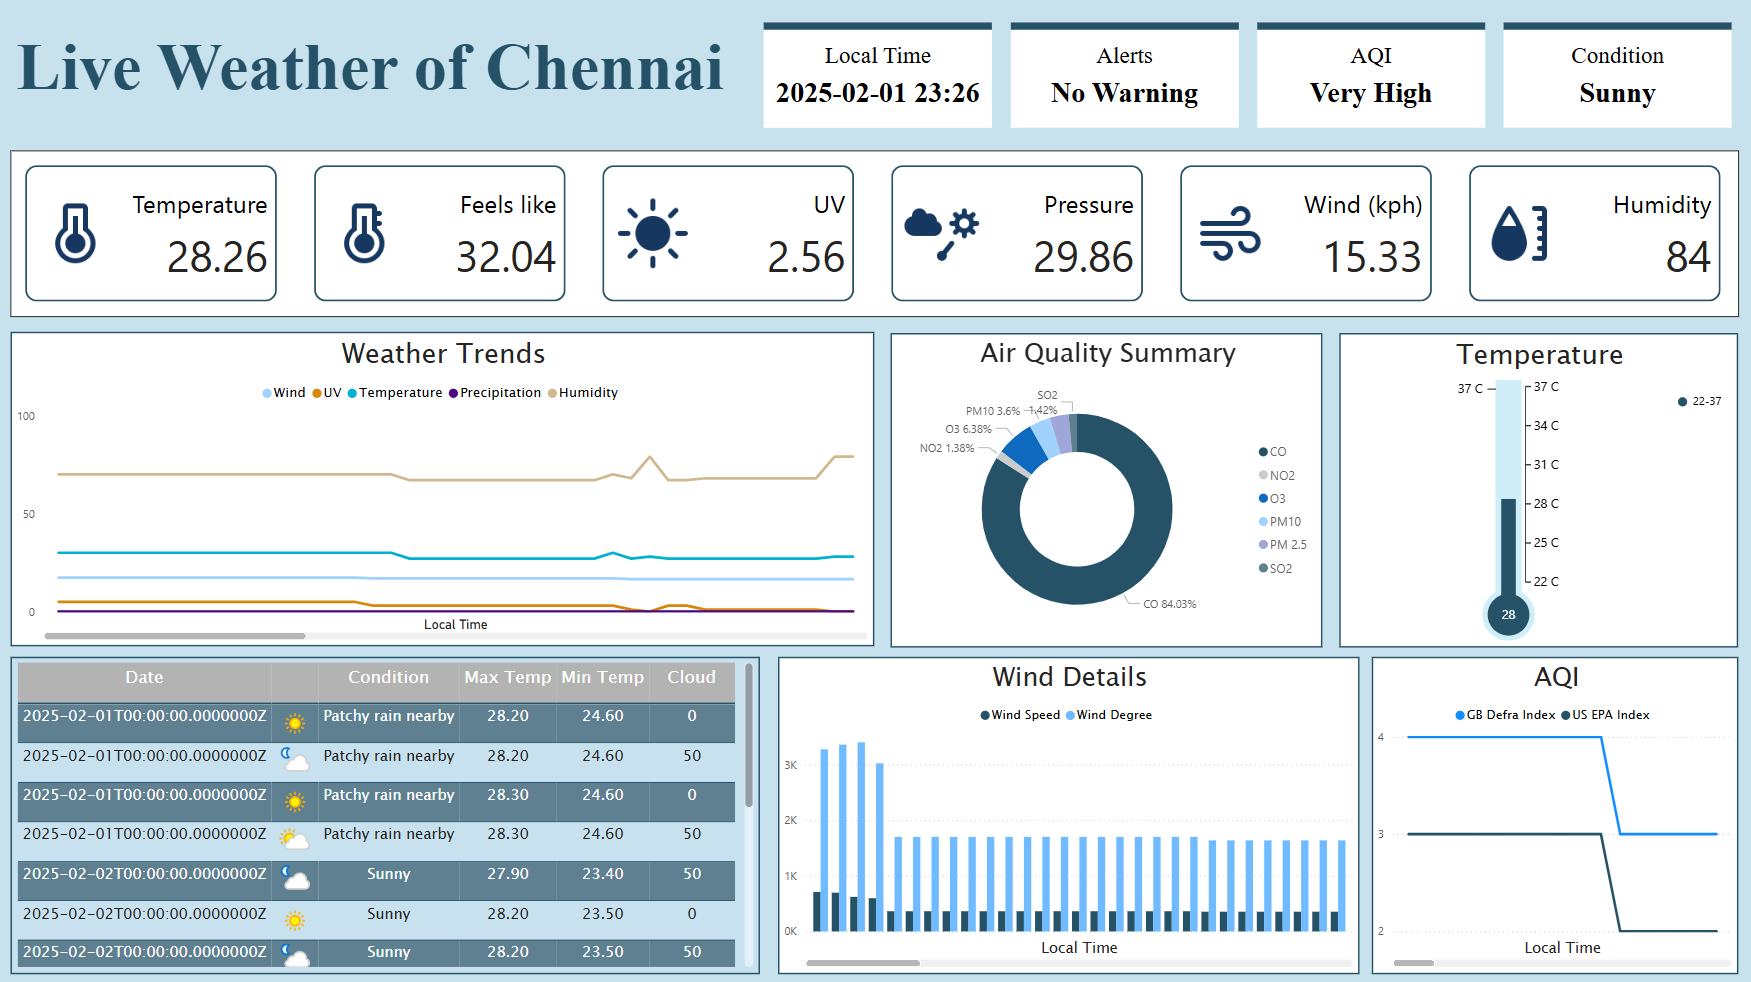

Layout of this report page (visuals, bound fields, positions):
{"tool":"powerbi","page":{"name":"Page 1","canvas":[1920,1080],"ordinal":0},"visuals":[{"type":"textbox","box":[0,28.3,812,113.1],"z":0},{"type":"cardVisual","fields":{"Data":["Max(weatherTable.localtime)","measure_Table.alert_status","Max(gbDefraIndex.quality)","Max(weatherTable.condition_text)"]},"box":[830.9,21.5,1067.9,125.2],"z":2},{"type":"cardVisual","title":"  ","fields":{"Data":["Avg(weatherTable.temp_c)","Avg(weatherTable.feelslike_c)","Avg(weatherTable.uv)","Avg(weatherTable.pressure_in)","Avg(weatherTable.wind_kph)","Max(weatherTable.humidity)"]},"box":[13.5,167,1885.3,181.8],"z":3},{"type":"lineChart","title":"Weather Trends","fields":{"Category":["weatherTable.localtime"],"Y":["Avg(weatherTable.wind_kph)","Avg(weatherTable.uv)","Avg(weatherTable.temp_c)","Avg(weatherTable.precip_in)","Avg(weatherTable.humidity)"]},"box":[13.5,363.6,942.6,343.4],"z":4},{"type":"PBI_CV_309E6B47_39A5_4681_808F_132AFB230872","title":"Temperature","fields":{"TargetValue":["Max(weatherTable.feelslike_c)"],"Temperature":["Avg(weatherTable.temp_c)"],"Min":["Min(weatherTable.forecast.mintemp_c)"],"Max":["Max(weatherTable.forecast.maxtemp_c)"]},"box":[1463.8,364.9,435,343.4],"z":5},{"type":"donutChart","title":"Air Quality Summary","fields":{"Y":["Max(weatherTable.air_quality.co)","Max(weatherTable.air_quality.no2)","Max(weatherTable.air_quality.o3)","Max(weatherTable.air_quality.pm10)","Max(weatherTable.air_quality.pm2_5)","Max(weatherTable.air_quality.so2)"]},"box":[973.6,364.9,471.3,343.4],"z":6},{"type":"tableEx","title":"Air Quality Summary","fields":{"Values":["weatherTable.forecast.date","weatherTable.condition_icon","weatherTable.forecast.condition","weatherTable.forecast.maxtemp_c","weatherTable.forecast.mintemp_c","weatherTable.cloud"]},"box":[13.5,719.1,817.4,346.1],"z":7},{"type":"clusteredColumnChart","title":"Wind Details","fields":{"Category":["weatherTable.localtime"],"Y":["Sum(weatherTable.wind_kph)","Sum(weatherTable.wind_degree)"]},"box":[851.1,719.1,634.3,346.1],"z":8},{"type":"lineChart","title":"AQI","fields":{"Category":["weatherTable.localtime"],"Y":["Min(weatherTable.air_qulaity.gb_defra_index)","Min(weatherTable.air_quality.us-epa-index)"]},"box":[1498.8,719.1,400,346.1],"z":9}]}

Visuals, with their boxes in screenshot pixels (x1, y1, x2, y2), scaled from the page's 1920x1080 canvas onto the 1751x982 screenshot:
textbox: 0, 26, 741, 129
cardVisual - Max(weatherTable.localtime) x measure_Table.alert_status: 758, 20, 1732, 133
"  " cardVisual: 12, 152, 1732, 317
"Weather Trends" lineChart: 12, 331, 872, 643
"Temperature" PBI_CV_309E6B47_39A5_4681_808F_132AFB230872: 1335, 332, 1732, 644
"Air Quality Summary" donutChart: 888, 332, 1318, 644
"Air Quality Summary" tableEx: 12, 654, 758, 969
"Wind Details" clusteredColumnChart: 776, 654, 1355, 969
"AQI" lineChart: 1367, 654, 1732, 969
